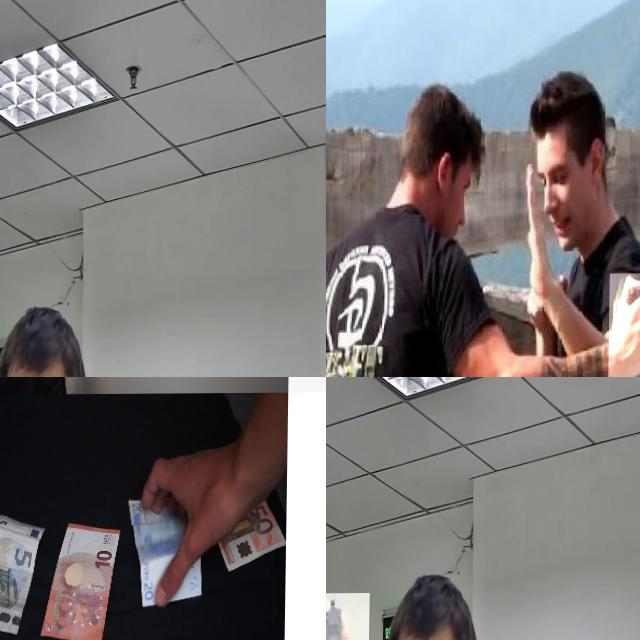-: (608, 274, 640, 377)
